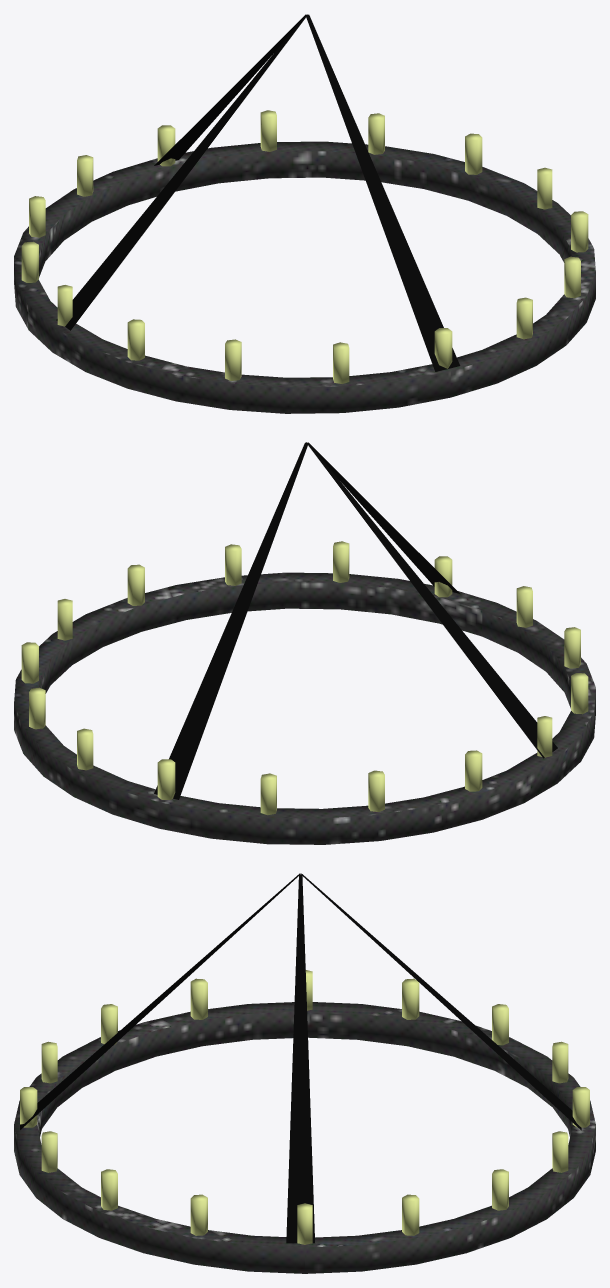
File: HangingLight.glb
The picture shows the model from 3 angles, top to bottom: view 1: azimuth 30°, elevation 25°; view 2: azimuth 150°, elevation 25°; view 3: azimuth 270°, elevation 25°; orthographic projection.
Visible parts, largest first — view 1: Chandelier; view 2: Chandelier; view 3: Chandelier.
Boxes of the visible parts, bbox=[...] form: Chandelier: bbox=[14, 14, 595, 413]; Chandelier: bbox=[14, 442, 595, 844]; Chandelier: bbox=[14, 873, 595, 1273].
Bounding box in the file's own units: 2 × 1.05 × 2.
Materials: 3 (1 with a texture image).
